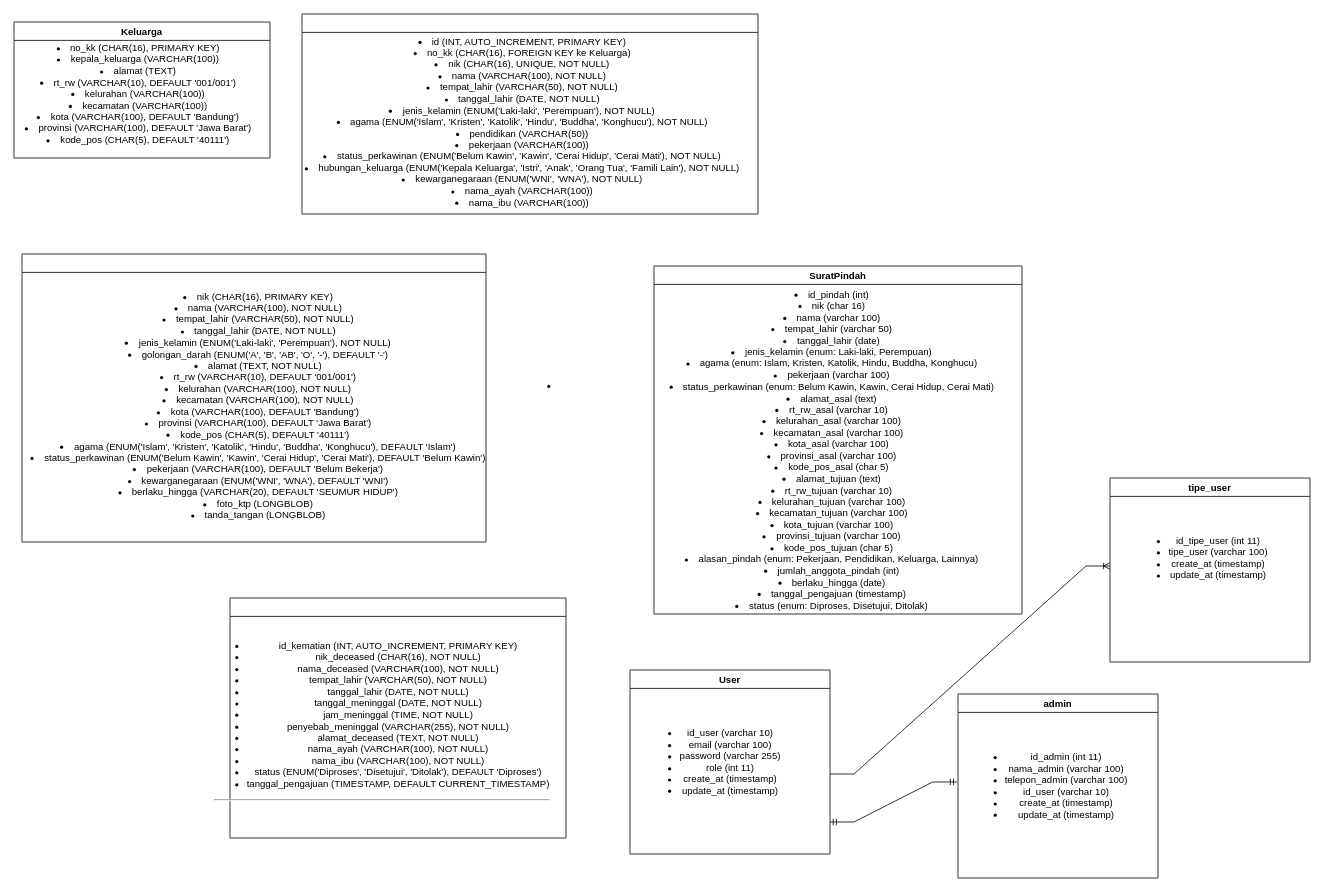
The diagram is 1324 pixels wide and 892 high, and some of its shapes have lost their labels. The shapes that lost their labels are listed below. From the top down, each one's box as (x1, y1, x2, y2) in pixels, then its label:
(301, 13, 758, 214): AnggotaKeluarga
(21, 253, 486, 542): Ektp
(229, 597, 566, 838): SuratKematian
